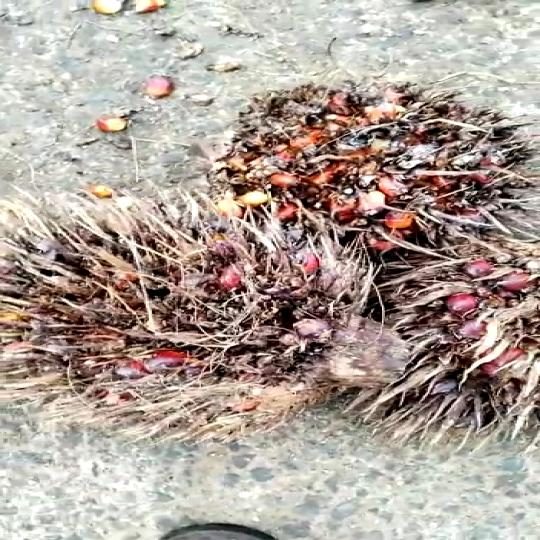terlalu masak: (0, 209, 399, 430), (209, 76, 532, 256)
